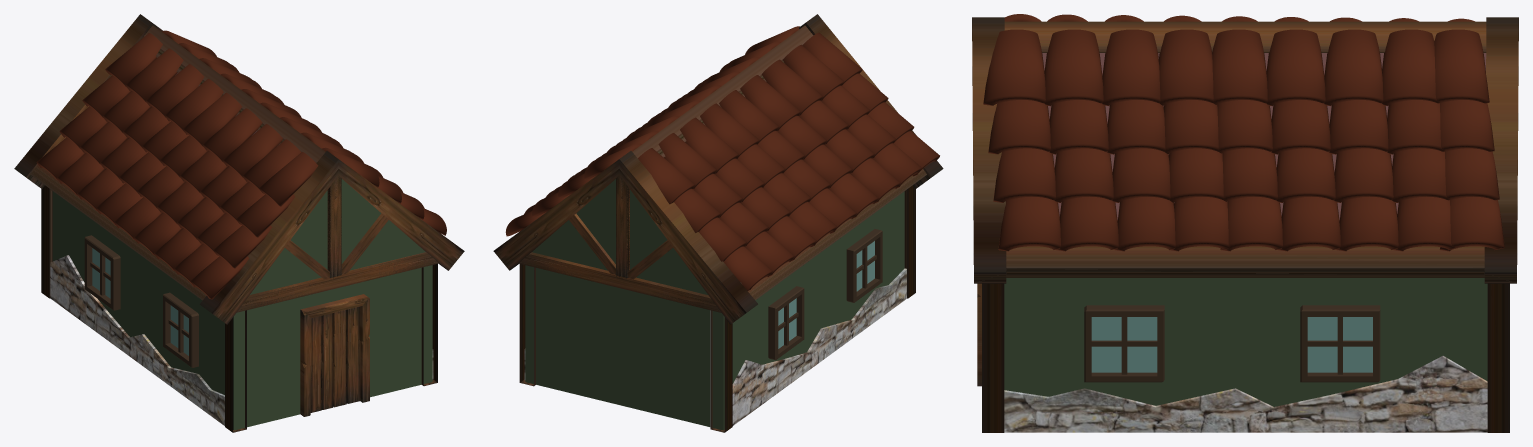
Rendered from SM_House_002.fbx.
3 views of the same model, side by side, from view 1: azimuth 30°, elevation 25°; view 2: azimuth 150°, elevation 25°; view 3: azimuth 270°, elevation 25° (orthographic). The views are drawn at different scales.
Parts seen in each view (by area): view 1: Plane.014; view 2: Plane.014; view 3: Plane.014.
Boxes of the visible parts, bbox=[...] form: Plane.014: bbox=[14, 14, 464, 432]; Plane.014: bbox=[493, 14, 943, 432]; Plane.014: bbox=[972, 14, 1518, 432].
Bounding box in the file's own units: 466 × 439 × 628.
